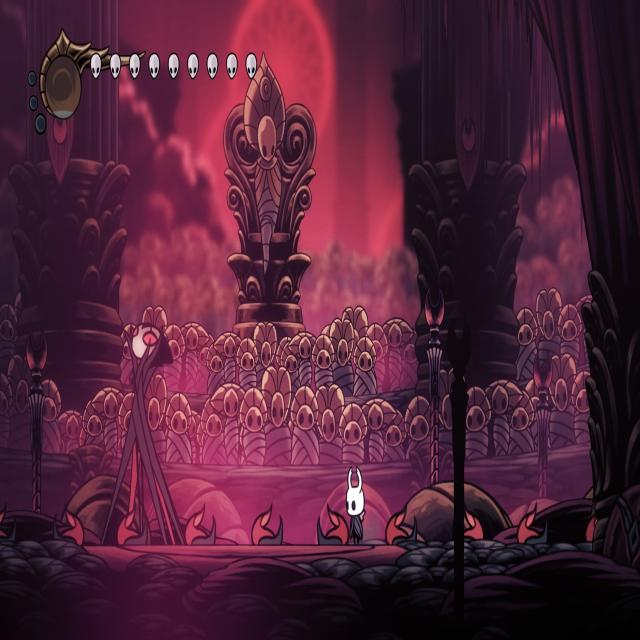Grimm: (100, 320, 186, 544)
Player: (345, 462, 368, 548)
Spikes: (252, 499, 284, 547), (52, 502, 86, 546), (186, 499, 217, 547), (317, 501, 349, 547), (384, 501, 418, 544), (516, 499, 549, 543), (116, 504, 149, 545), (453, 508, 484, 541), (0, 505, 19, 541), (584, 502, 597, 542)
